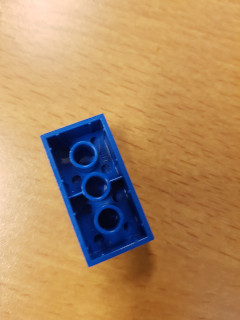2x4 blue: (38, 110, 160, 269)
